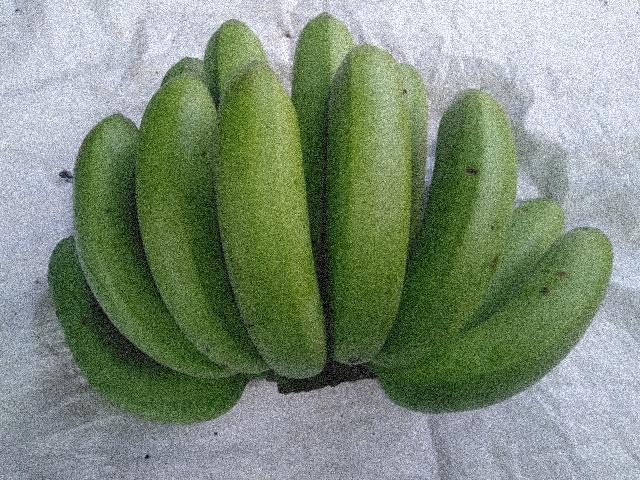freshunripe: (294, 26, 417, 407), (381, 72, 522, 395), (200, 58, 335, 377), (135, 67, 268, 389), (63, 95, 202, 393)
